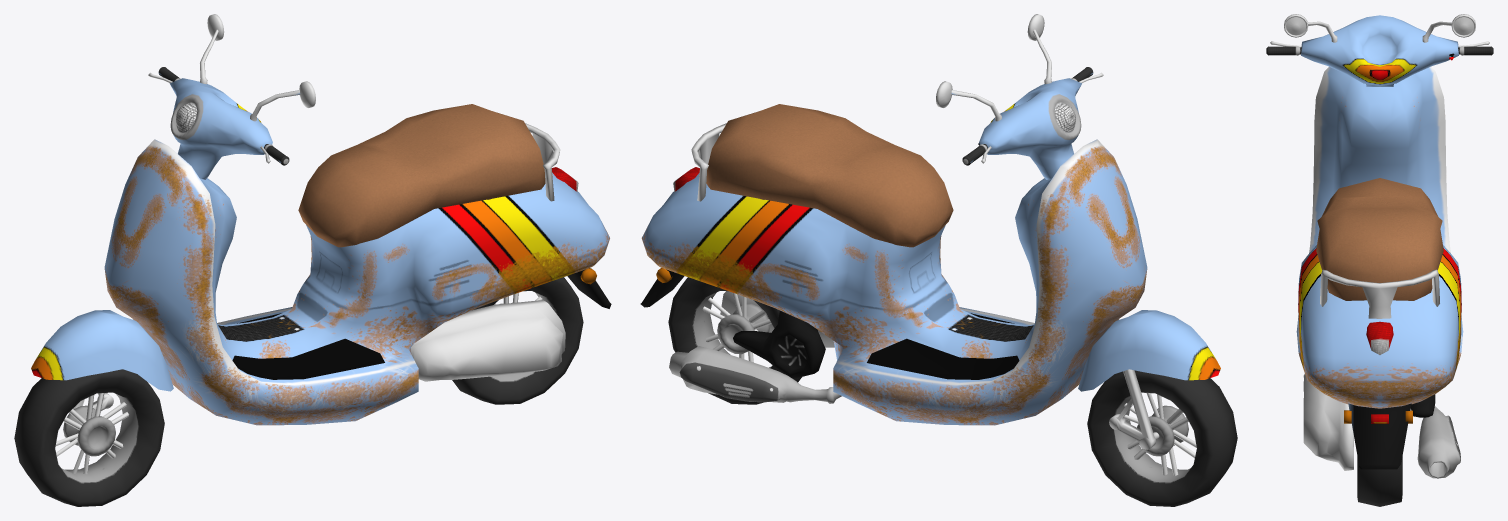
Rendered from simplescooter_bluewithrust.fbx.
The picture shows the model from 3 angles, left to right: view 1: azimuth 30°, elevation 25°; view 2: azimuth 150°, elevation 25°; view 3: azimuth 270°, elevation 25°; orthographic projection. The views are drawn at different scales.
Parts seen in each view (by area): view 1: lowpolybase.002, lowpolybase.003, wheellowpoly.002, moteurlowpoly.001, devantrouelowpoly.001, devantlowpoly.001, wheellowpoly.003, tapislowpoly.001, derrierelowpoly.001, retrolowpoly.003; view 2: lowpolybase.002, lowpolybase.003, wheellowpoly.002, devantrouelowpoly.001, devantlowpoly.001, wheellowpoly.003, echaplowpoly.001, tapislowpoly.001, ventilolowpoly.001, Cylinder.002, derrierelowpoly.001, retrolowpoly.002; view 3: lowpolybase.002, lowpolybase.003, devantlowpoly.001, moteurlowpoly.001, trucderrirerelowpoly.001, echaplowpoly.001, derrierelowpoly.001, wheellowpoly.003, Plane.001, retrolowpoly.002, retrolowpoly.003, ventilolowpoly.001 (+2 smaller).
Part boxes in pixels (bbox=[...]): lowpolybase.002: bbox=[104, 139, 609, 425]; lowpolybase.003: bbox=[298, 104, 545, 247]; wheellowpoly.002: bbox=[14, 369, 164, 506]; moteurlowpoly.001: bbox=[411, 300, 565, 381]; devantrouelowpoly.001: bbox=[31, 310, 173, 391]; devantlowpoly.001: bbox=[169, 78, 272, 179]; wheellowpoly.003: bbox=[452, 277, 583, 404]; tapislowpoly.001: bbox=[232, 313, 384, 379]; derrierelowpoly.001: bbox=[525, 123, 560, 201]; retrolowpoly.003: bbox=[250, 81, 315, 121]; lowpolybase.002: bbox=[641, 139, 1147, 425]; lowpolybase.003: bbox=[706, 104, 953, 247]; wheellowpoly.002: bbox=[1087, 370, 1237, 506]; devantrouelowpoly.001: bbox=[1078, 310, 1220, 391]; devantlowpoly.001: bbox=[979, 78, 1081, 179]; wheellowpoly.003: bbox=[668, 277, 817, 404]; echaplowpoly.001: bbox=[669, 346, 841, 403]; tapislowpoly.001: bbox=[867, 313, 1019, 379]; ventilolowpoly.001: bbox=[733, 310, 825, 378]; Cylinder.002: bbox=[1109, 369, 1159, 449]; derrierelowpoly.001: bbox=[691, 123, 726, 201]; retrolowpoly.002: bbox=[936, 81, 1001, 121]; lowpolybase.002: bbox=[1296, 66, 1463, 408]; lowpolybase.003: bbox=[1316, 178, 1443, 300]; devantlowpoly.001: bbox=[1301, 15, 1458, 86]; moteurlowpoly.001: bbox=[1303, 374, 1353, 470]; trucderrirerelowpoly.001: bbox=[1348, 403, 1411, 469]; echaplowpoly.001: bbox=[1417, 406, 1460, 478]; derrierelowpoly.001: bbox=[1320, 269, 1439, 318]; wheellowpoly.003: bbox=[1357, 456, 1402, 506]; Plane.001: bbox=[1366, 321, 1393, 354]; retrolowpoly.002: bbox=[1422, 14, 1475, 42]; retrolowpoly.003: bbox=[1284, 14, 1337, 42]; ventilolowpoly.001: bbox=[1411, 394, 1435, 417].
Size of the model in its own units: 372 by 252 by 138.
Materials: 1 (1 with a texture image).
